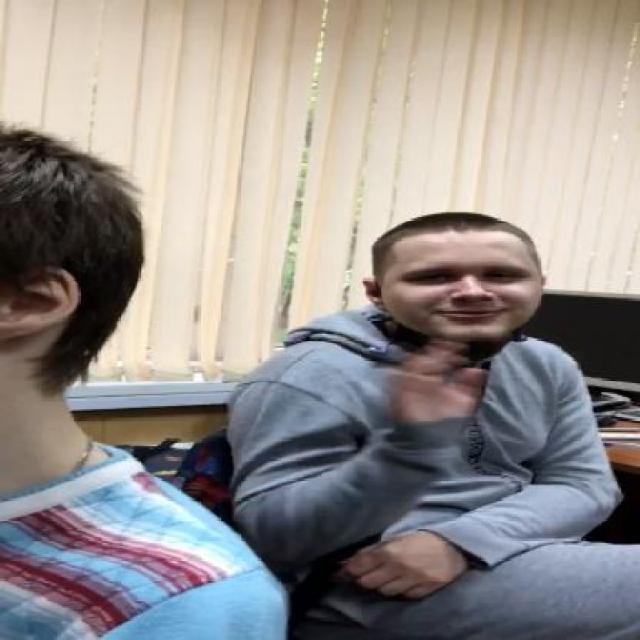closed-mouth: (433, 308, 507, 321)
